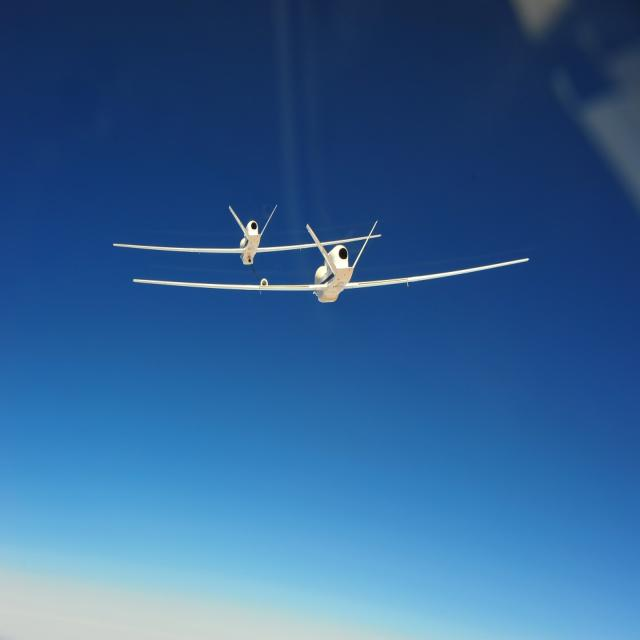MIL_Plane: (132, 219, 530, 303), (113, 203, 382, 265)
